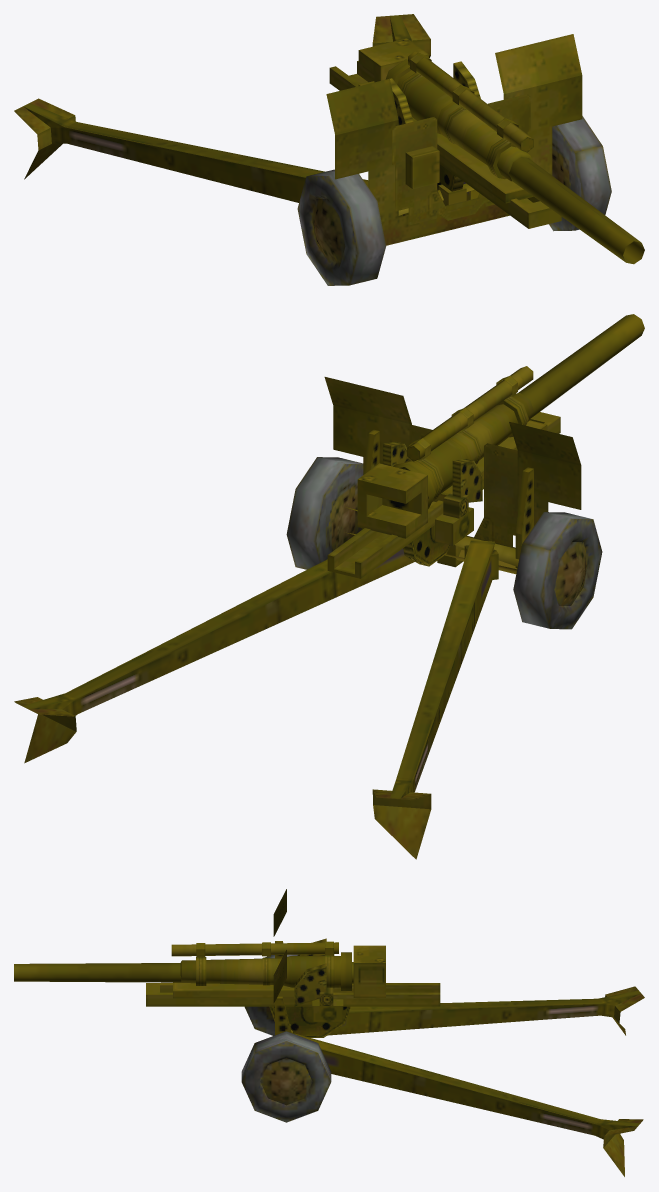
Rendered from USM5Gun.dae.
The picture shows the model from 3 angles, top to bottom: view 1: azimuth 30°, elevation 25°; view 2: azimuth 150°, elevation 25°; view 3: azimuth 270°, elevation 25°; orthographic projection. The views are drawn at different scales.
Parts seen in each view (by area): view 1: carriage, sleeve, wheels, barrel; view 2: carriage, sleeve, wheels, barrel; view 3: carriage, sleeve, wheels, barrel.
Boxes of the visible parts, <box> form: carriage: <box>14,14,582,245</box>; sleeve: <box>329,51,561,228</box>; wheels: <box>297,116,611,285</box>; barrel: <box>358,38,644,264</box>; carriage: <box>14,377,585,859</box>; sleeve: <box>327,366,560,578</box>; wheels: <box>286,457,602,629</box>; barrel: <box>357,314,644,538</box>; carriage: <box>273,889,644,1176</box>; sleeve: <box>146,938,440,1037</box>; wheels: <box>241,954,331,1122</box>; barrel: <box>14,945,385,997</box>.
Bounding box in the file's own units: 23.86 × 44.12 × 13.44.
